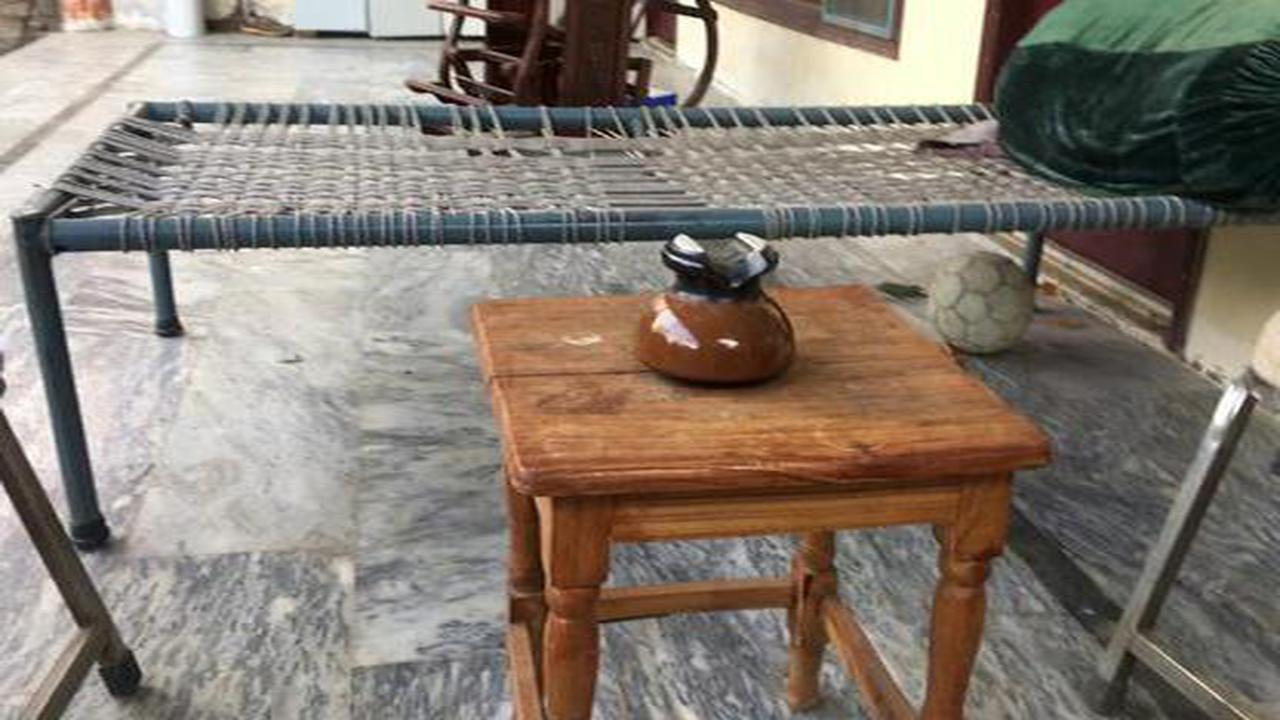insulator_pin: (607, 215, 819, 393)
